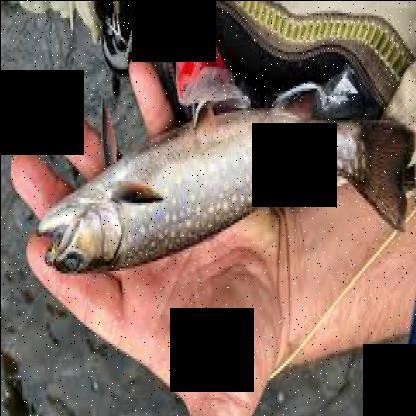fish: (34, 92, 415, 285)
